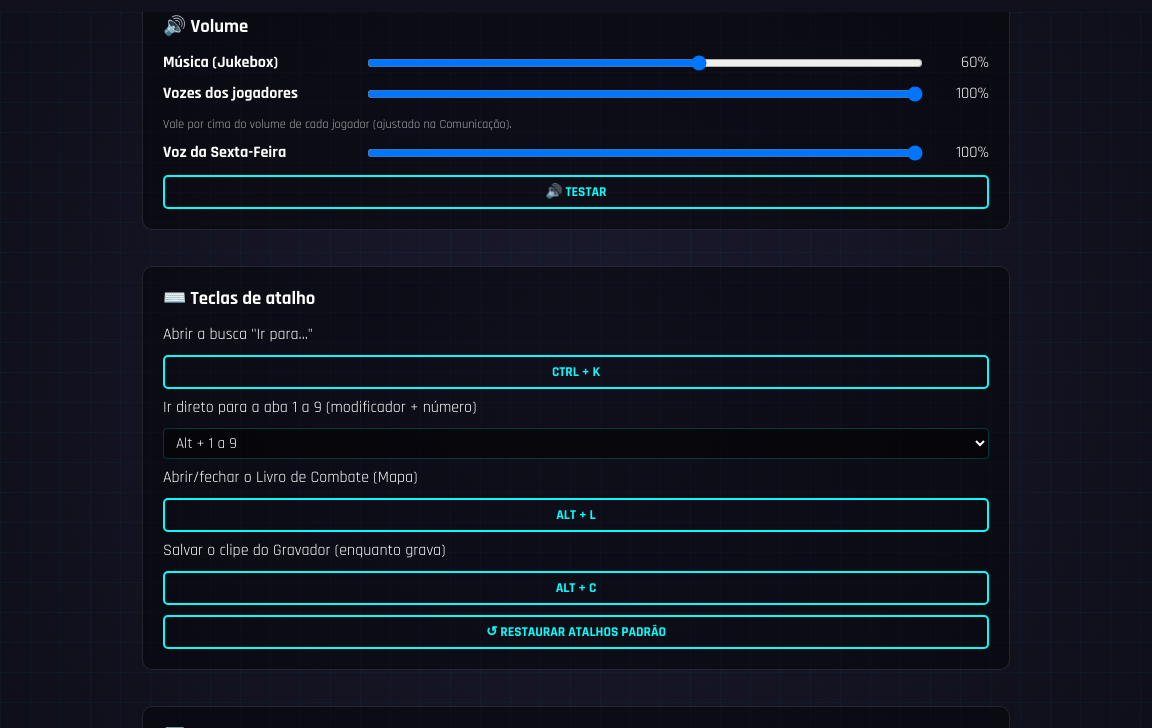
Test: ConfiguracoesPanel - atalhos › capturar novo atalho para Abrir a busca salva em rpg_atalhos
(page scrolled)
Click the button with aria-label "Alterar o atalho: Abrir a busca" at (576, 372), box x1=163 y1=355 x2=989 y2=389
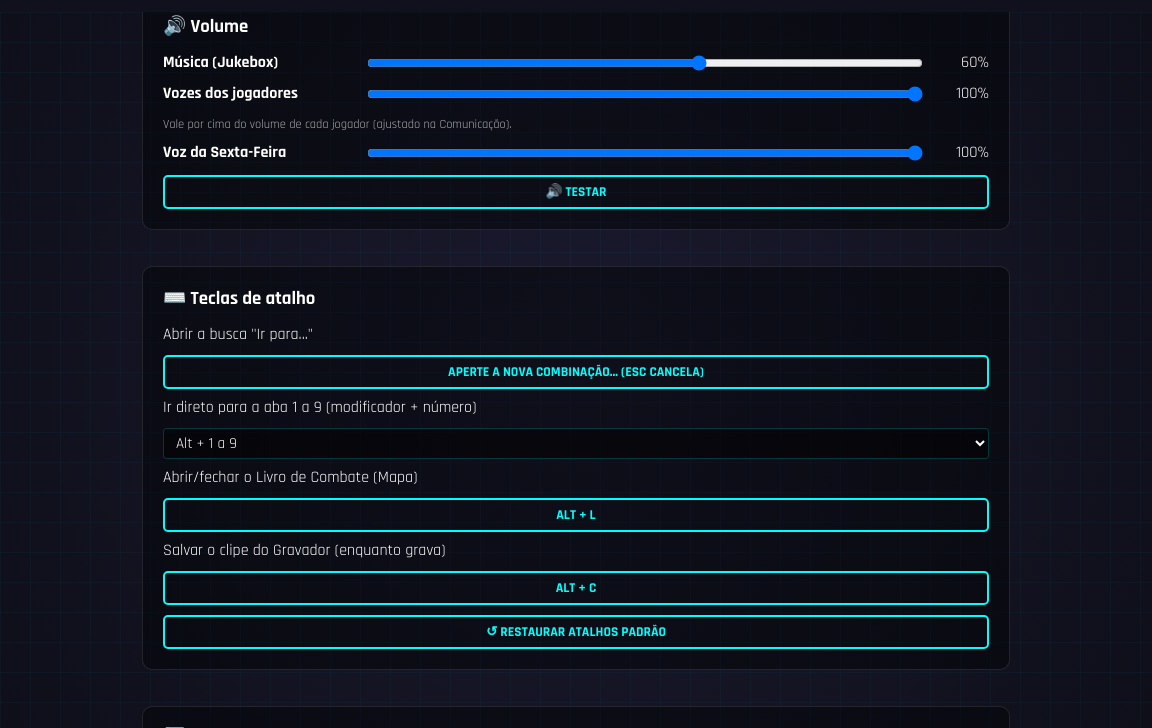
Expected: the button with aria-label "Alterar o atalho: Abrir a busca" shows "Aperte a nova combinação", x1=163 y1=355 x2=989 y2=389
Press j
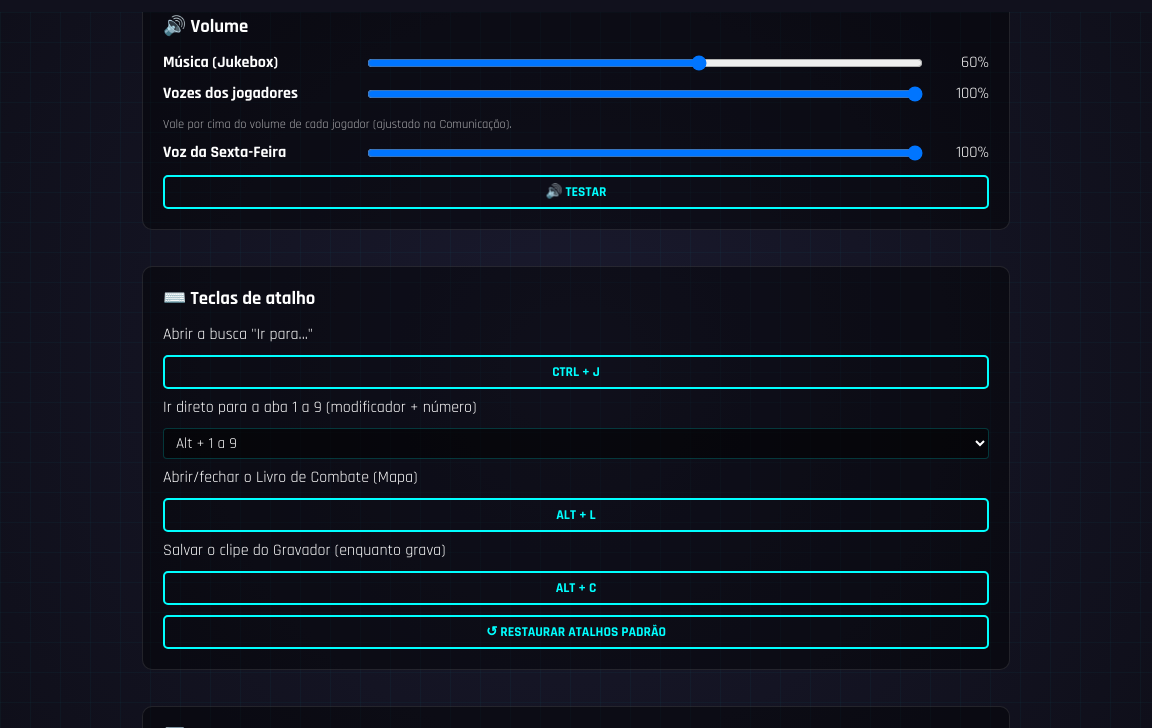
Expected: the button with aria-label "Alterar o atalho: Abrir a busca" reads "Ctrl + J", x1=163 y1=355 x2=989 y2=389
